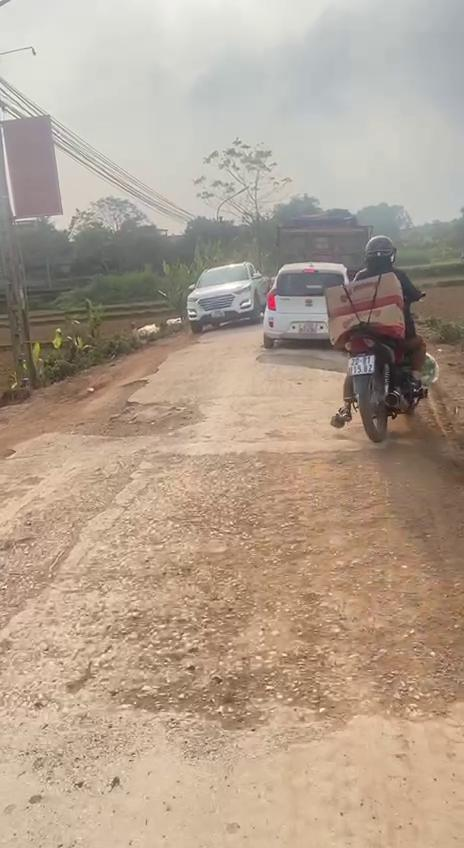pothole: (122, 646, 330, 732), (52, 373, 211, 443)
